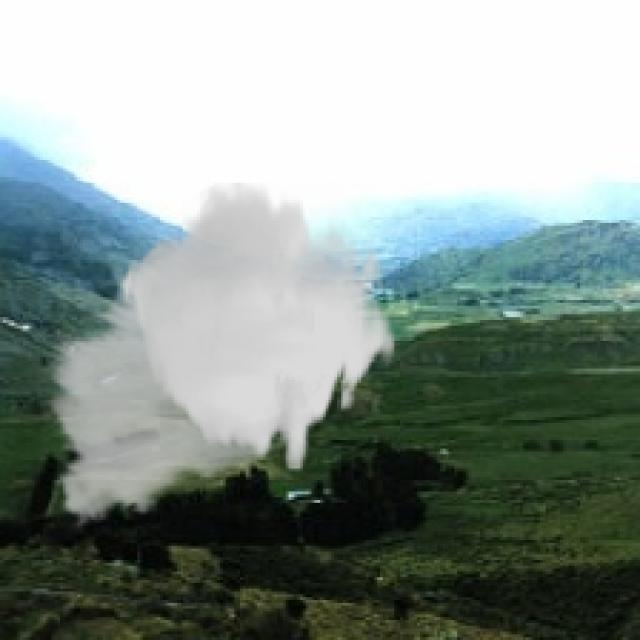Smoke: (37, 182, 397, 538)
